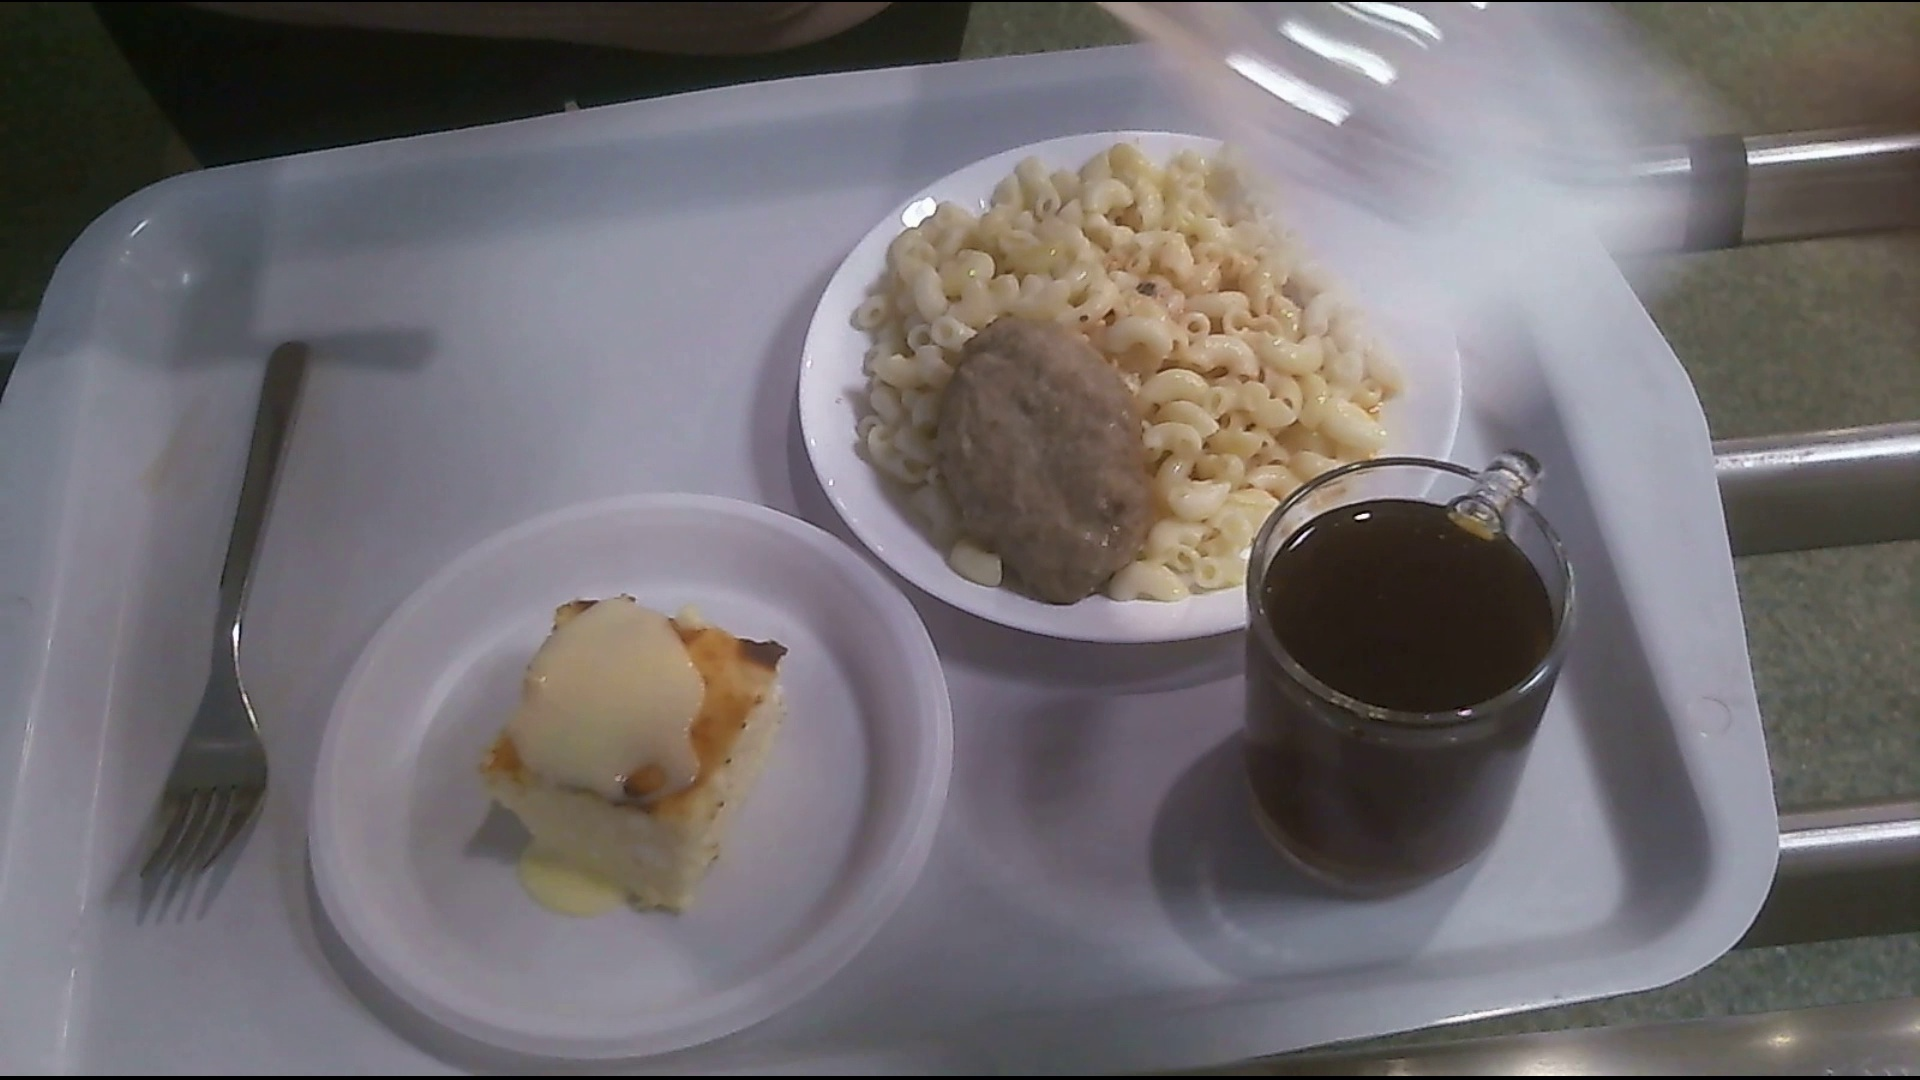cutlery: (138, 316, 313, 891)
drink: (1240, 448, 1578, 886)
plate: (785, 135, 1493, 646), (319, 501, 953, 1044)
